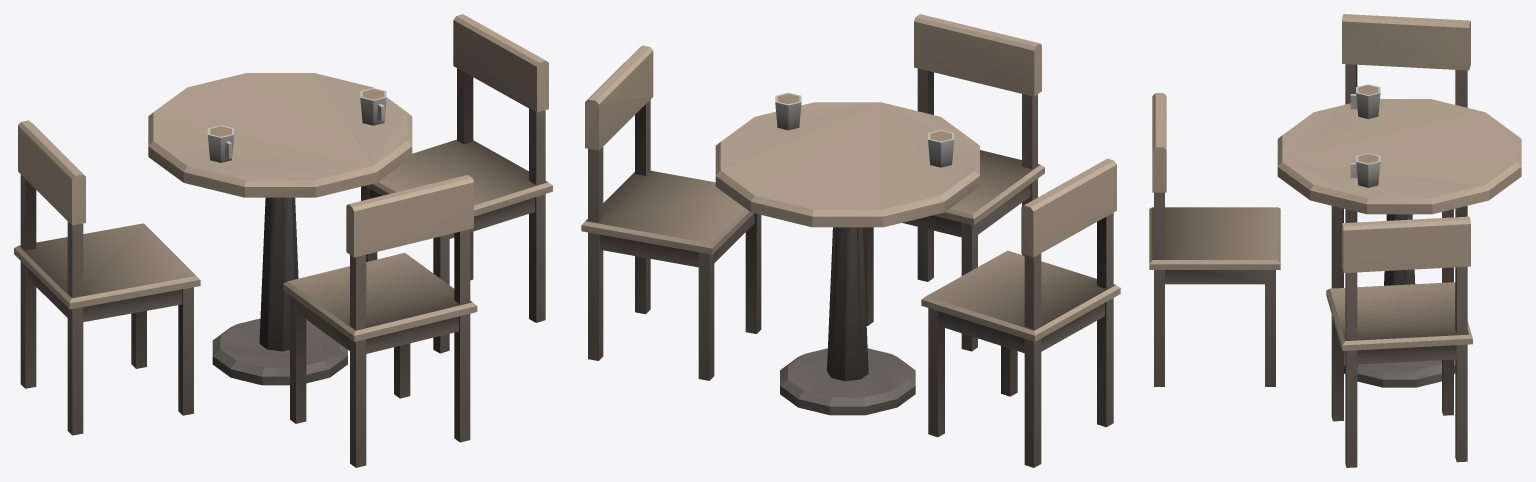
The model's file is cafe.glb.
3 views of the same model, side by side, from view 1: azimuth 30°, elevation 25°; view 2: azimuth 150°, elevation 25°; view 3: azimuth 270°, elevation 25° (orthographic). The views are drawn at different scales.
Parts seen in each view (by area): view 1: cafe; view 2: cafe; view 3: cafe.
Part boxes in pixels (box(x1,y1,x2,y2)): cafe: box(14, 14, 552, 467); cafe: box(581, 14, 1120, 467); cafe: box(1149, 14, 1521, 467).
Bounding box in the file's own units: 1.65 × 0.85 × 1.19.
